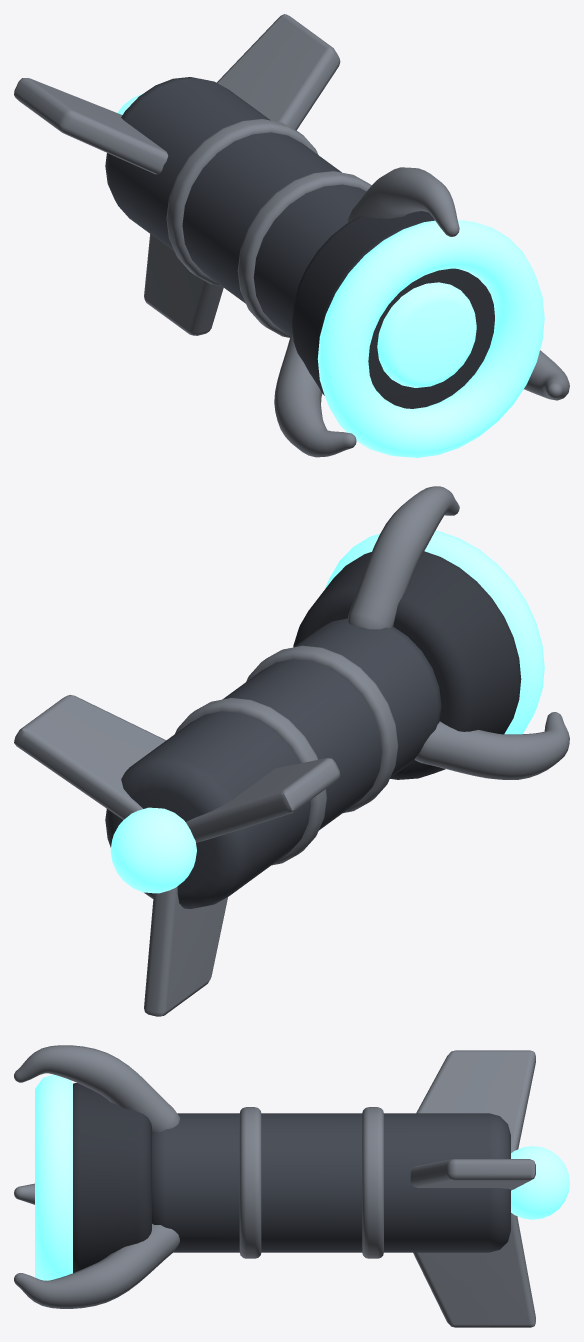
File: grap_laser.glb
3 views of the same model, one above another, from view 1: azimuth 30°, elevation 25°; view 2: azimuth 150°, elevation 25°; view 3: azimuth 270°, elevation 25° (orthographic). The views are drawn at different scales.
Visible parts, largest first — view 1: laser_glow__n66dcf0, laser_fin__p7d838d, laser_body__p454a54, laser_face__p363a42; view 2: laser_fin__p7d838d, laser_body__p454a54, laser_face__p363a42, laser_glow__n66dcf0; view 3: laser_body__p454a54, laser_fin__p7d838d, laser_face__p363a42, laser_glow__n66dcf0.
Boxes of the visible parts, x1=… form: laser_glow__n66dcf0: x1=117, y1=94, x2=544, y2=457; laser_fin__p7d838d: x1=14, y1=14, x2=569, y2=457; laser_body__p454a54: x1=105, y1=77, x2=366, y2=336; laser_face__p363a42: x1=291, y1=211, x2=494, y2=408; laser_fin__p7d838d: x1=14, y1=486, x2=569, y2=1016; laser_body__p454a54: x1=105, y1=618, x2=441, y2=908; laser_face__p363a42: x1=293, y1=551, x2=521, y2=779; laser_glow__n66dcf0: x1=110, y1=530, x2=544, y2=893; laser_body__p454a54: x1=152, y1=1113, x2=510, y2=1252; laser_fin__p7d838d: x1=14, y1=1045, x2=535, y2=1327; laser_face__p363a42: x1=73, y1=1083, x2=151, y2=1272; laser_glow__n66dcf0: x1=35, y1=1074, x2=569, y2=1280.
Size of the model in its own units: 0.6365 by 0.7038 by 1.27.
